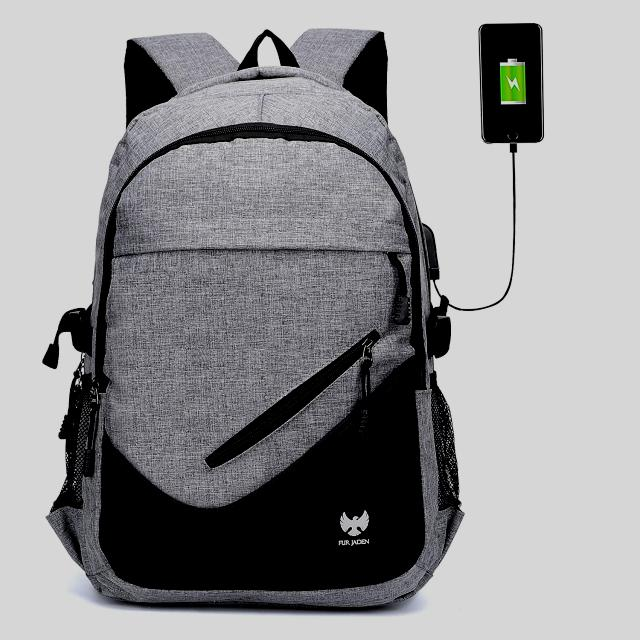backpack: (44, 29, 466, 610)
